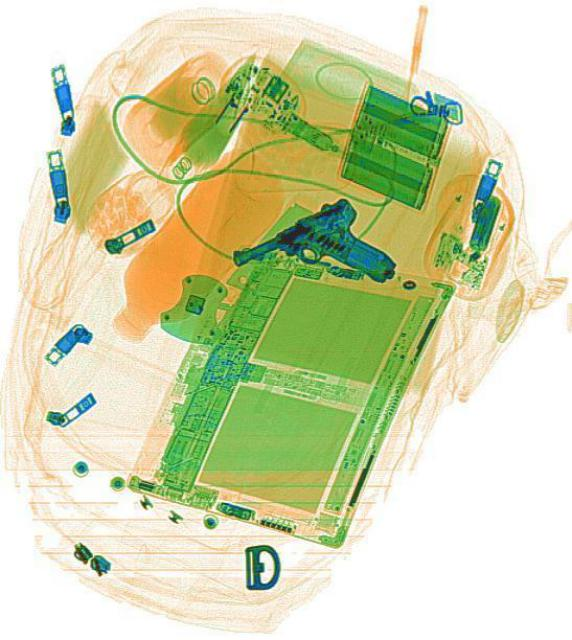Gun: (224, 186, 398, 332)
